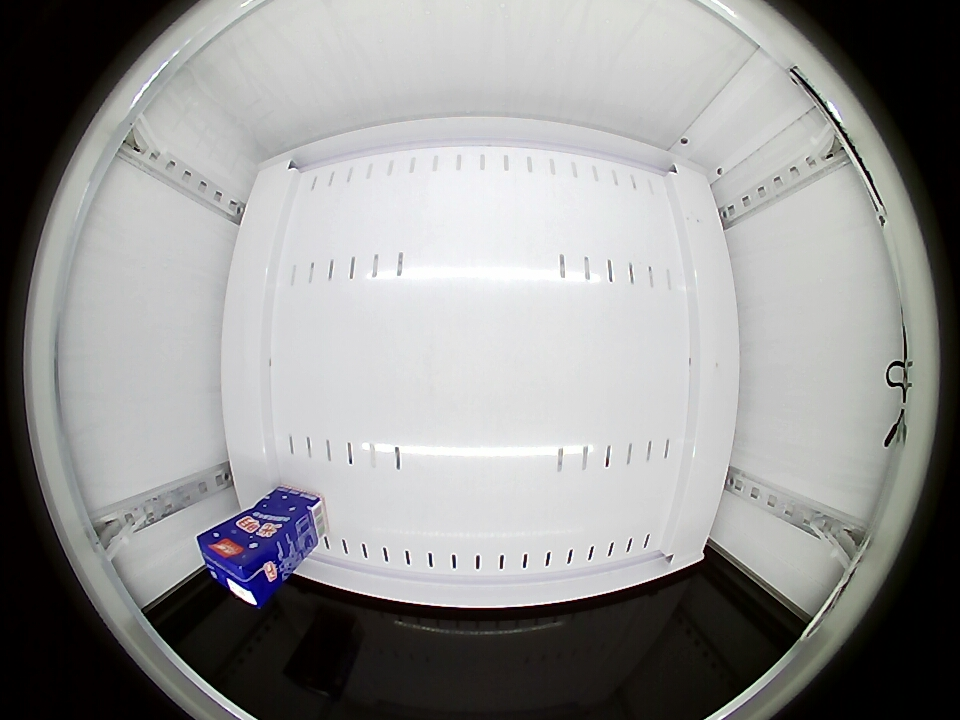bingqilinniunai: (196, 521, 285, 607)
